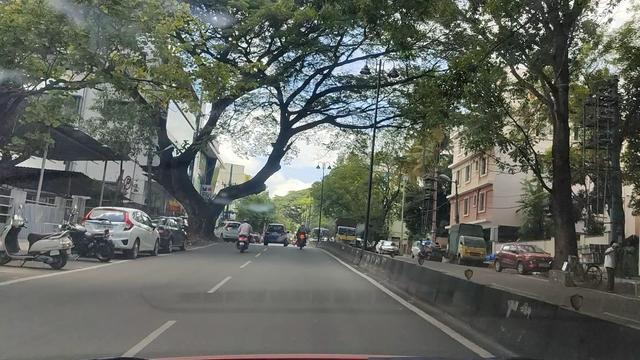LMV: (10, 213, 75, 277), (93, 203, 162, 259)
